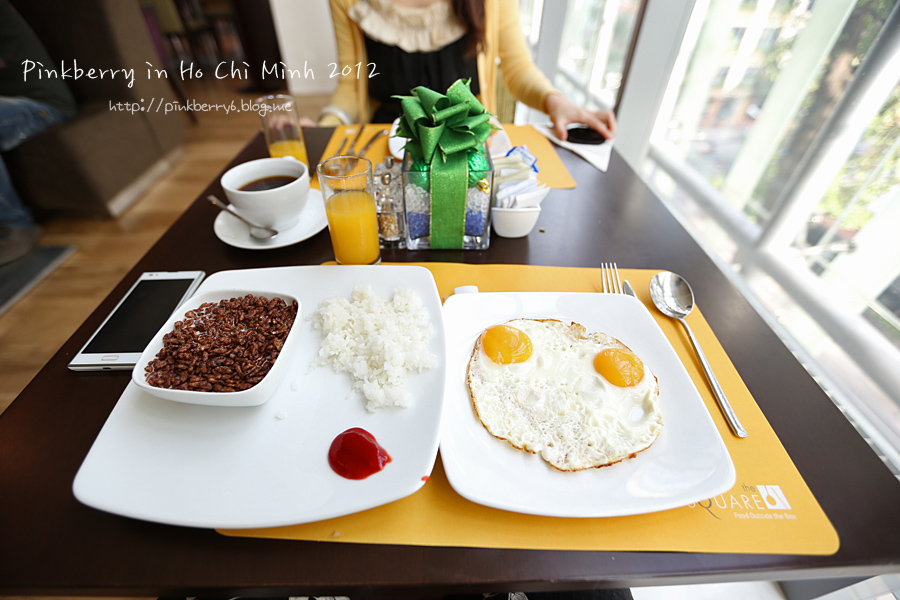fried egg: (577, 328, 658, 457), (471, 315, 551, 427)
plain rice: (317, 287, 430, 402)
